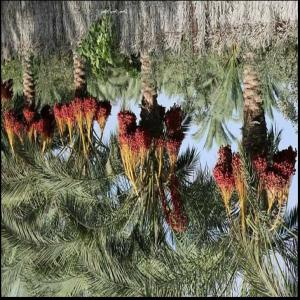palm tree: (1, 6, 298, 296)
